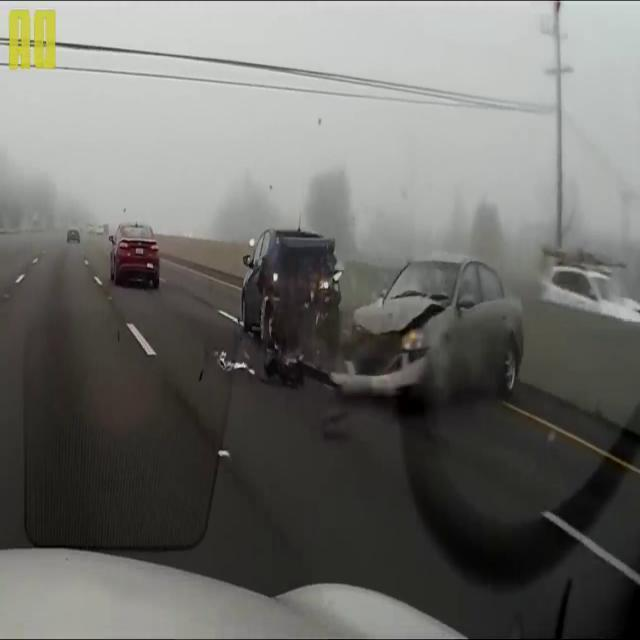accident: (209, 226, 527, 408)
